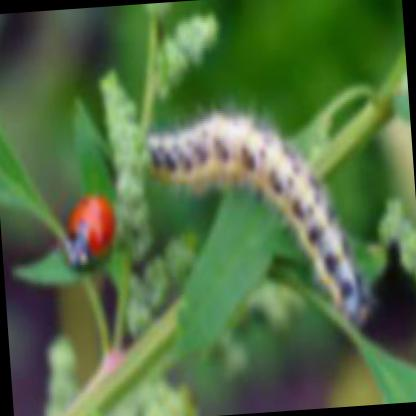pieris: (145, 106, 367, 321)
